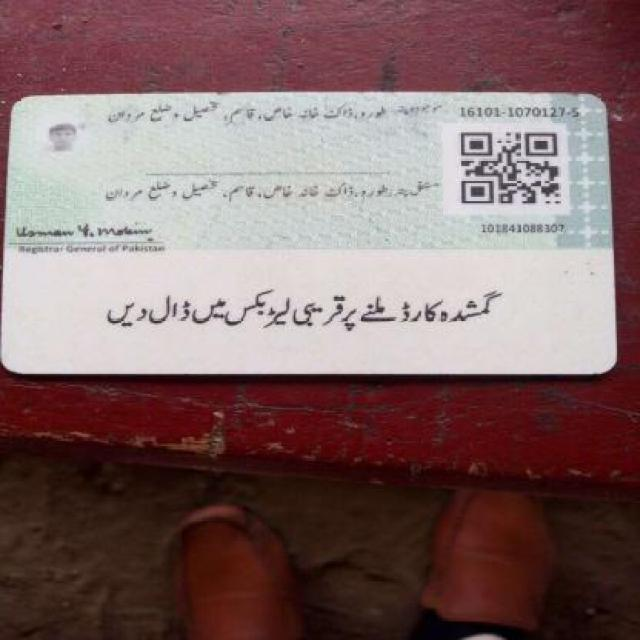Back: (6, 88, 623, 383)
